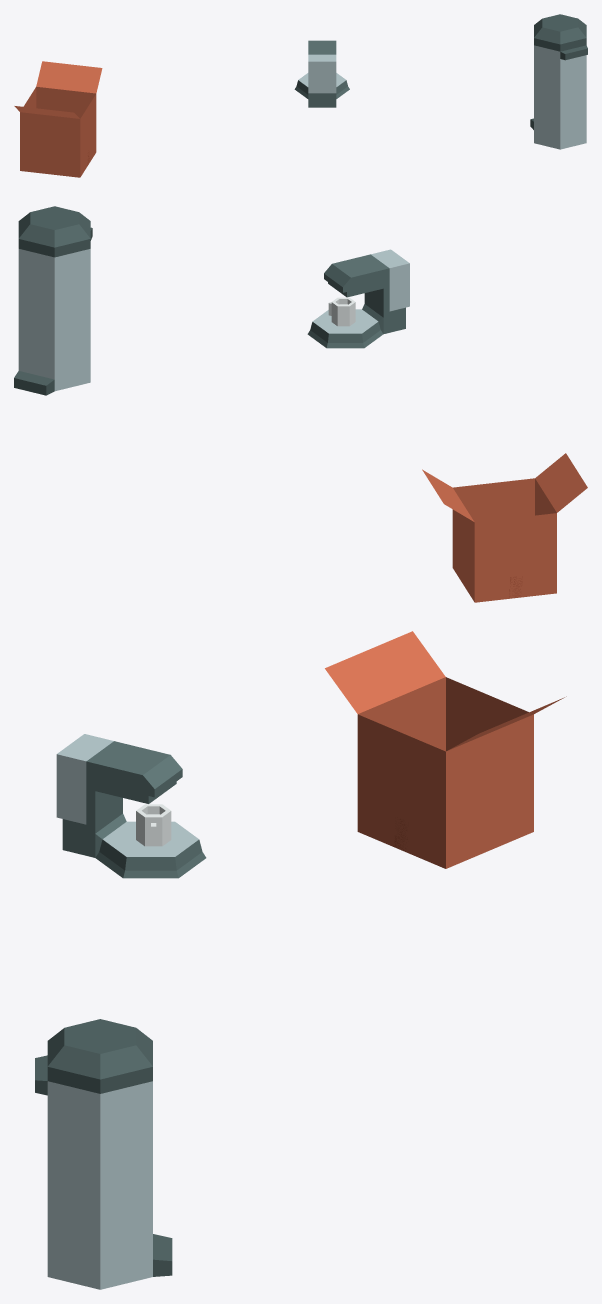
The model's file is Level_1_5-Items.fbx.
3 renders of one model, top to bottom at view 1: azimuth 30°, elevation 25°; view 2: azimuth 150°, elevation 25°; view 3: azimuth 270°, elevation 25°, orthographic. The views are drawn at different scales.
Visible parts, largest first — view 1: cardboardBoxOpen, trashcan, kitchenCoffeeMachine; view 2: cardboardBoxOpen, trashcan, kitchenCoffeeMachine; view 3: cardboardBoxOpen, trashcan, kitchenCoffeeMachine.
Boxes of the visible parts, bbox=[...] form: cardboardBoxOpen: bbox=[14, 61, 102, 177]; trashcan: bbox=[530, 14, 587, 149]; kitchenCoffeeMachine: bbox=[294, 40, 349, 107]; cardboardBoxOpen: bbox=[422, 453, 587, 602]; trashcan: bbox=[14, 206, 92, 395]; kitchenCoffeeMachine: bbox=[307, 249, 409, 348]; cardboardBoxOpen: bbox=[325, 631, 566, 868]; trashcan: bbox=[35, 1019, 172, 1289]; kitchenCoffeeMachine: bbox=[56, 734, 206, 878].
Bounding box in the file's own units: 38.92 × 10.55 × 18.14.
